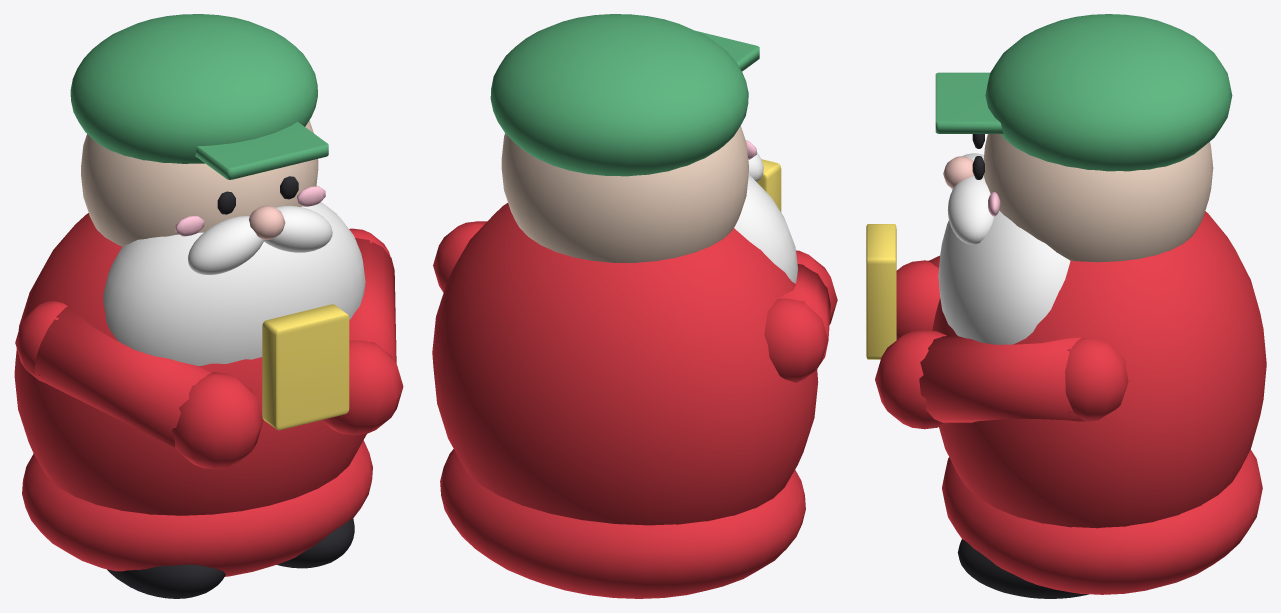
File: store.glb
3 renders of one model, left to right at view 1: azimuth 30°, elevation 25°; view 2: azimuth 150°, elevation 25°; view 3: azimuth 270°, elevation 25°, orthographic. The views are drawn at different scales.
Parts seen in each view (by area): view 1: store_red, store_green, store_white, store_skin, store_yellow, store_black, store_nose, store_pink; view 2: store_red, store_green, store_skin, store_white, store_yellow; view 3: store_red, store_green, store_skin, store_white, store_yellow, store_black, store_nose.
Part boxes in pixels (bbox=[...]): store_red: bbox=[14, 213, 403, 576]; store_green: bbox=[70, 14, 328, 179]; store_white: bbox=[103, 202, 365, 365]; store_skin: bbox=[81, 120, 318, 246]; store_yellow: bbox=[262, 304, 349, 430]; store_black: bbox=[107, 176, 354, 598]; store_nose: bbox=[249, 205, 285, 239]; store_pink: bbox=[175, 186, 325, 236]; store_red: bbox=[432, 203, 837, 598]; store_green: bbox=[490, 14, 759, 176]; store_skin: bbox=[501, 126, 748, 262]; store_white: bbox=[734, 151, 798, 283]; store_yellow: bbox=[757, 159, 781, 212]; store_red: bbox=[875, 211, 1266, 594]; store_green: bbox=[935, 14, 1232, 171]; store_skin: bbox=[983, 134, 1213, 262]; store_white: bbox=[938, 153, 1070, 344]; store_yellow: bbox=[866, 224, 896, 359]; store_black: bbox=[957, 134, 1088, 598]; store_nose: bbox=[943, 156, 974, 188].
Bounding box in the file's own units: 2 × 2.69 × 1.85.
